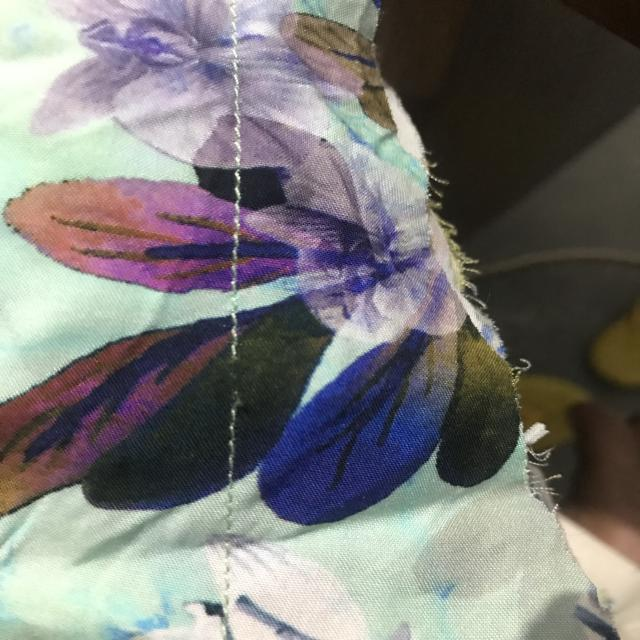broken: (222, 333, 260, 416)
good: (229, 199, 250, 269)
